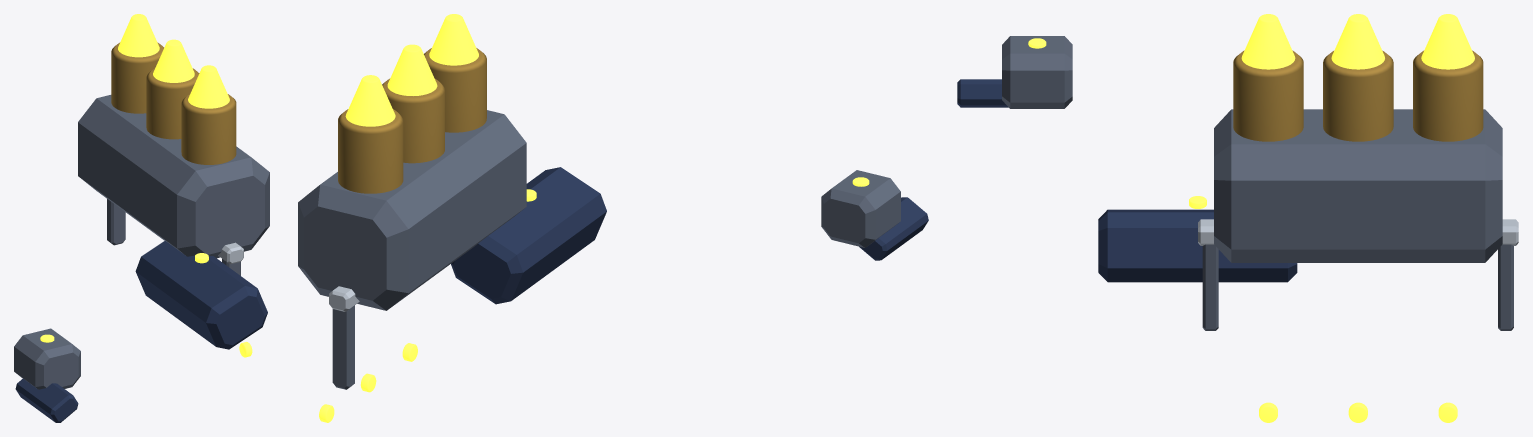
File: tower_nova_rate_s6.glb
The picture shows the model from 3 angles, left to right: view 1: azimuth 30°, elevation 25°; view 2: azimuth 150°, elevation 25°; view 3: azimuth 270°, elevation 25°; orthographic projection. The views are drawn at different scales.
Visible parts, largest first — view 1: nova_hopper_ext, nova_hoist_chute_b, nova_shell_b0, nova_ejector_box, nova_shell_b1, nova_shell_b2, nova_ejector_chute, nova_shell_b_fuse0, nova_shell_b_fuse1, nova_shell_b_fuse2, nova_hoist_rail_post0.46, nova_hoist_rail; view 2: nova_hopper_ext, nova_hoist_chute_b, nova_ejector_box, nova_shell_b2, nova_shell_b0, nova_shell_b1, nova_hoist_rail_post0.46, nova_shell_b_fuse2, nova_shell_b_fuse0, nova_shell_b_fuse1, nova_ejector_chute; view 3: nova_hopper_ext, nova_hoist_chute_b, nova_shell_b2, nova_shell_b1, nova_shell_b0, nova_ejector_box, nova_shell_b_fuse0, nova_shell_b_fuse2, nova_shell_b_fuse1, nova_hoist_rail_post-0.46, nova_hoist_rail_post0.46, nova_ejector_chute (+1 smaller).
Part boxes in pixels (x1,y1,x2,y2): nova_hopper_ext: (78, 95, 269, 258); nova_hoist_chute_b: (135, 241, 267, 349); nova_shell_b0: (181, 94, 236, 164); nova_ejector_box: (14, 328, 80, 389); nova_shell_b1: (146, 68, 199, 139); nova_shell_b2: (111, 42, 163, 113); nova_ejector_chute: (15, 378, 78, 422); nova_shell_b_fuse0: (188, 65, 229, 108); nova_shell_b_fuse1: (153, 39, 194, 82); nova_shell_b_fuse2: (118, 14, 159, 57); nova_hoist_rail_post0.46: (107, 199, 125, 245); nova_hoist_rail: (218, 242, 243, 264); nova_hopper_ext: (298, 110, 526, 310); nova_hoist_chute_b: (451, 167, 606, 304); nova_ejector_box: (821, 170, 900, 247); nova_shell_b2: (338, 109, 403, 193); nova_shell_b0: (424, 48, 486, 132); nova_shell_b1: (382, 78, 444, 163); nova_hoist_rail_post0.46: (332, 305, 354, 389); nova_shell_b_fuse2: (345, 75, 395, 126); nova_shell_b_fuse0: (429, 14, 478, 65); nova_shell_b_fuse1: (387, 44, 437, 95); nova_ejector_chute: (859, 197, 928, 260); nova_hopper_ext: (1214, 109, 1502, 262); nova_hoist_chute_b: (1098, 209, 1297, 282); nova_shell_b2: (1413, 50, 1483, 141); nova_shell_b1: (1323, 50, 1393, 141); nova_shell_b0: (1233, 50, 1303, 141); nova_ejector_box: (1002, 36, 1072, 108); nova_shell_b_fuse0: (1241, 14, 1295, 69); nova_shell_b_fuse2: (1421, 14, 1474, 69); nova_shell_b_fuse1: (1331, 14, 1384, 69); nova_hoist_rail_post-0.46: (1202, 244, 1218, 330); nova_hoist_rail_post0.46: (1498, 244, 1513, 330); nova_ejector_chute: (957, 79, 1008, 107).
Bounding box in the file's own units: 1.5 × 1.31 × 1.75.
